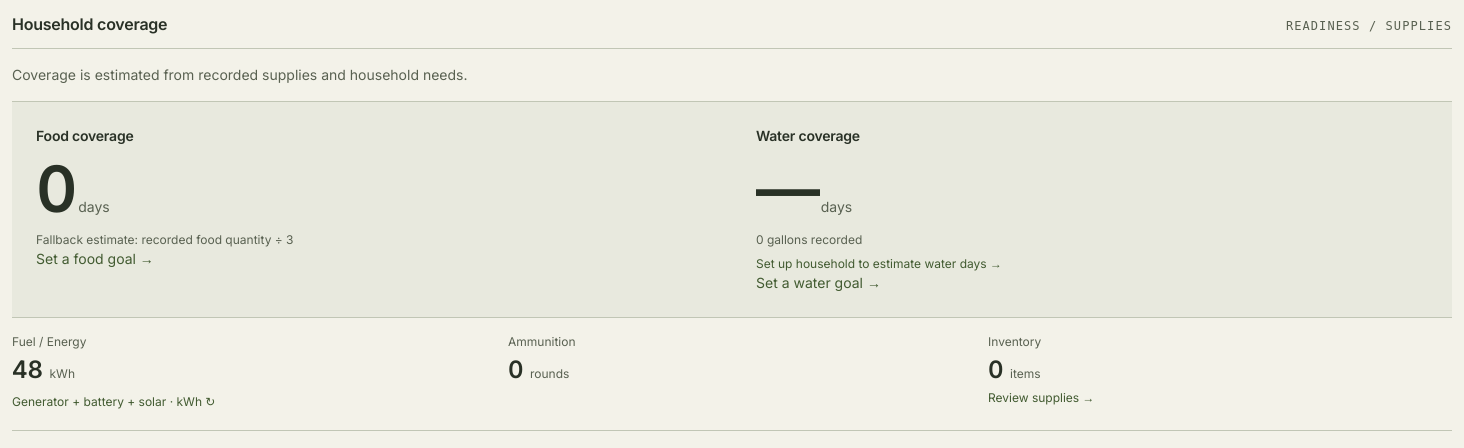
Test: household coverage › cycles all existing fuel units using a real button
Click the button with aria-label "Switch fuel measurement".
click(114, 402)  # box [12, 390, 215, 414]
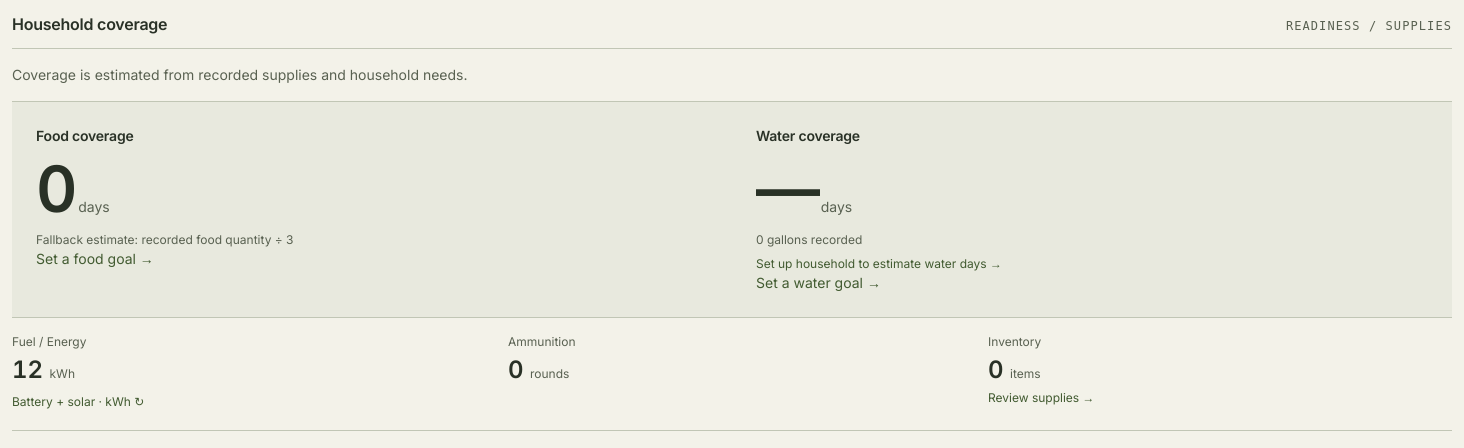
Check: the text "12" is shown, box [12, 355, 43, 384]
Click the button with aria-label "Switch fuel measurement".
click(78, 402)  # box [12, 390, 144, 414]
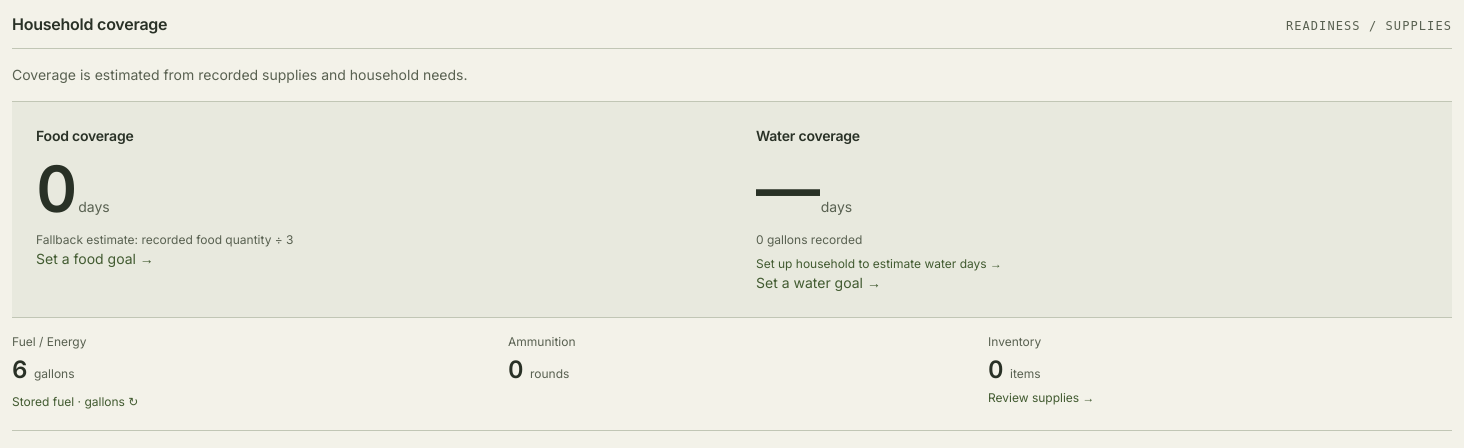
Check: the text "6" is shown, box [12, 355, 28, 384]
Click the button with aria-label "Switch fuel measurement".
click(75, 402)  # box [12, 390, 138, 414]
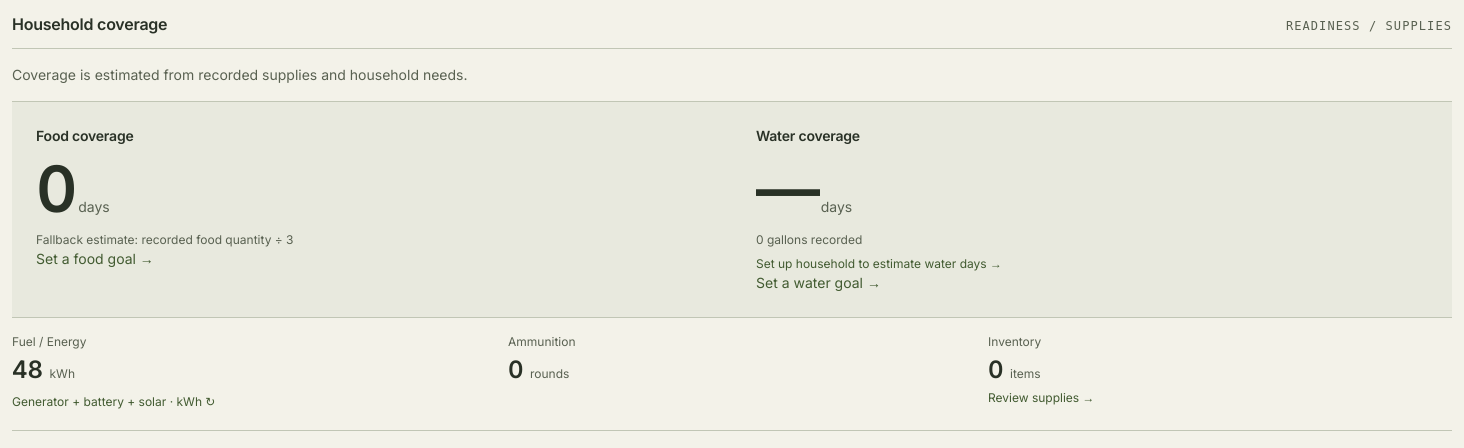
Check: the text "48" is shown, box [12, 355, 43, 384]
